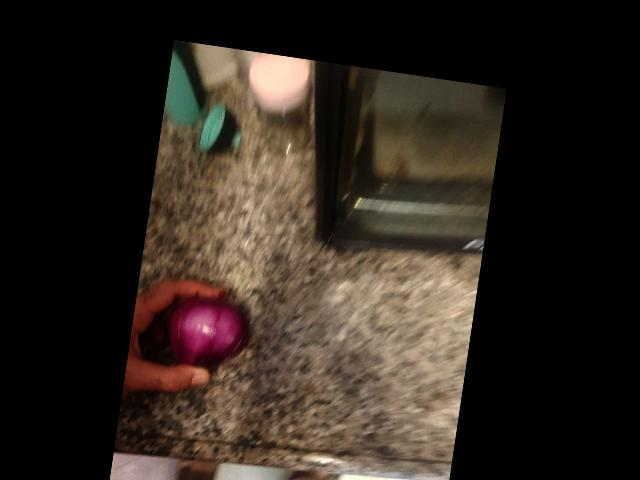onion: (160, 286, 252, 381)
